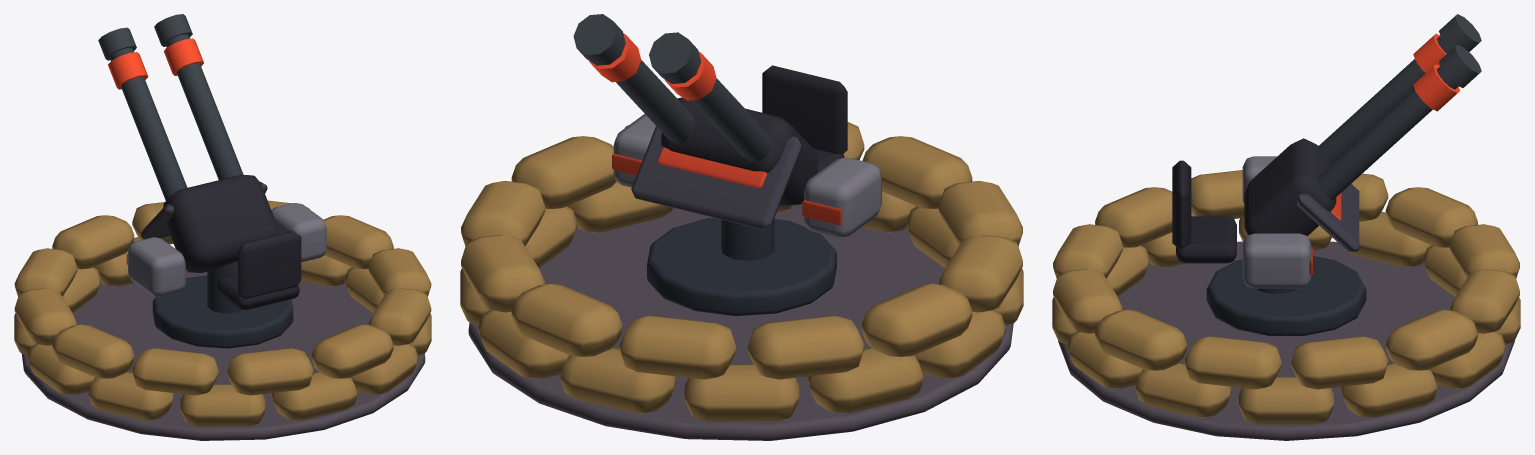
The model's file is aa-nest.glb.
3 views of the same model, side by side, from view 1: azimuth 30°, elevation 25°; view 2: azimuth 150°, elevation 25°; view 3: azimuth 270°, elevation 25° (orthographic). The views are drawn at different scales.
Visible parts, largest first — view 1: aa-nest Sand webbing, aa-nest Bunker footing, aa-nest Turret Gunmetal, aa-nest Turret Ashen charcoal, aa-nest Turret Ash grey, aa-nest Turret Ember paint, aa-nest Turret Ashen slate; view 2: aa-nest Sand webbing, aa-nest Bunker footing, aa-nest Turret Gunmetal, aa-nest Turret Ashen charcoal, aa-nest Turret Ashen slate, aa-nest Turret Ash grey, aa-nest Turret Ember paint; view 3: aa-nest Sand webbing, aa-nest Bunker footing, aa-nest Turret Gunmetal, aa-nest Turret Ashen charcoal, aa-nest Turret Ash grey, aa-nest Turret Ashen slate, aa-nest Turret Ember paint.
Part boxes in pixels (bbox=[...]): aa-nest Sand webbing: bbox=[14, 200, 431, 426]; aa-nest Bunker footing: bbox=[22, 270, 425, 440]; aa-nest Turret Gunmetal: bbox=[98, 14, 293, 348]; aa-nest Turret Ashen charcoal: bbox=[163, 175, 301, 309]; aa-nest Turret Ash grey: bbox=[128, 203, 326, 296]; aa-nest Turret Ember paint: bbox=[108, 38, 203, 264]; aa-nest Turret Ashen slate: bbox=[141, 181, 267, 239]; aa-nest Sand webbing: bbox=[460, 122, 1023, 421]; aa-nest Bunker footing: bbox=[468, 203, 1013, 440]; aa-nest Turret Gunmetal: bbox=[573, 14, 836, 315]; aa-nest Turret Ashen charcoal: bbox=[661, 65, 847, 205]; aa-nest Turret Ashen slate: bbox=[631, 126, 802, 229]; aa-nest Turret Ash grey: bbox=[613, 114, 881, 237]; aa-nest Turret Ember paint: bbox=[589, 33, 842, 225]; aa-nest Sand webbing: bbox=[1052, 170, 1520, 424]; aa-nest Bunker footing: bbox=[1058, 241, 1514, 440]; aa-nest Turret Gunmetal: bbox=[1206, 14, 1481, 335]; aa-nest Turret Ashen charcoal: bbox=[1172, 138, 1336, 263]; aa-nest Turret Ash grey: bbox=[1242, 156, 1311, 288]; aa-nest Turret Ashen slate: bbox=[1297, 183, 1359, 251]; aa-nest Turret Ember paint: bbox=[1309, 33, 1459, 274].
Bounding box in the file's own units: 2.46 × 1.83 × 2.46.
7 materials, 7 textured.
